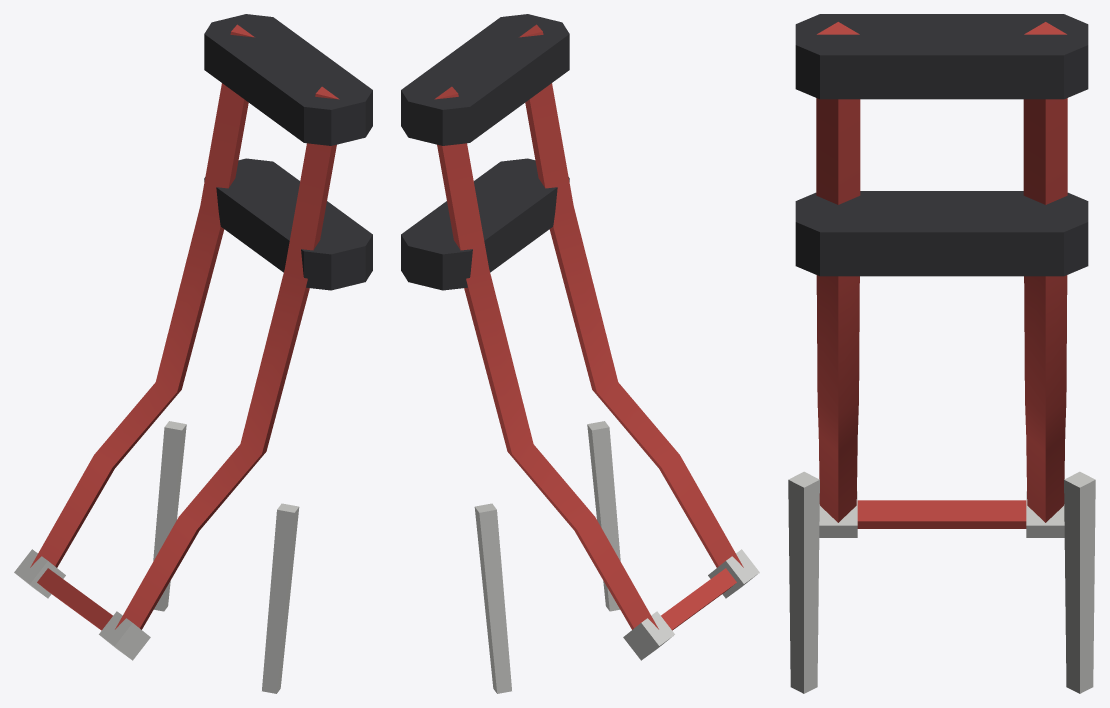
Rendered from classic_earles_upper_lod2.glb.
3 renders of one model, left to right at view 1: azimuth 30°, elevation 25°; view 2: azimuth 150°, elevation 25°; view 3: azimuth 270°, elevation 25°, orthographic. The views are drawn at different scales.
Parts seen in each view (by area): view 1: classic_earles_upper_lod2; view 2: classic_earles_upper_lod2; view 3: classic_earles_upper_lod2.
Boxes of the visible parts, x1,y1,x2,y2 form: classic_earles_upper_lod2: (14,14,372,693); classic_earles_upper_lod2: (401,14,759,693); classic_earles_upper_lod2: (788,14,1095,693).
Size of the model in its own units: 0.3 by 0.6344 by 0.252.
